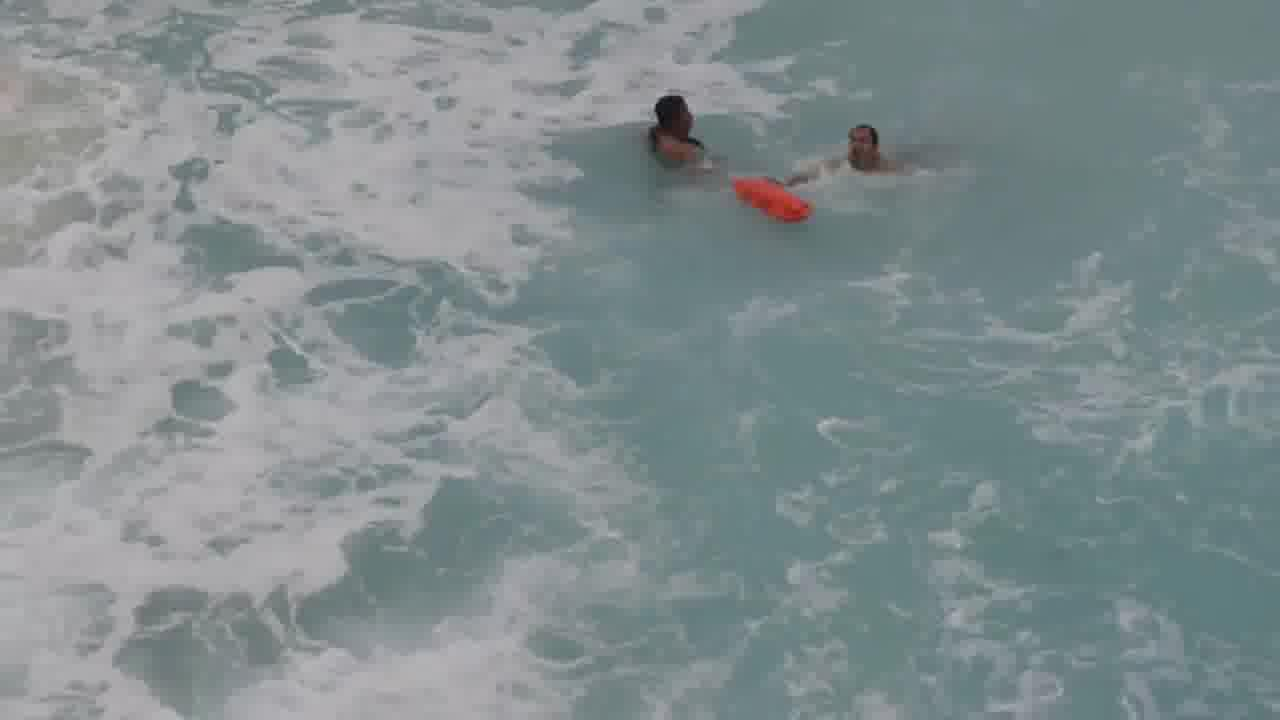swimmer: (792, 114, 912, 187), (627, 87, 723, 176)
